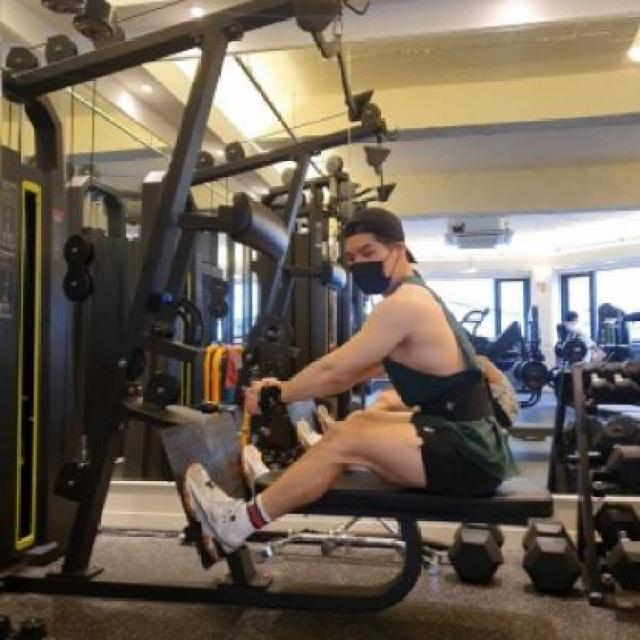Seated Cable Rows: (3, 0, 582, 640)
